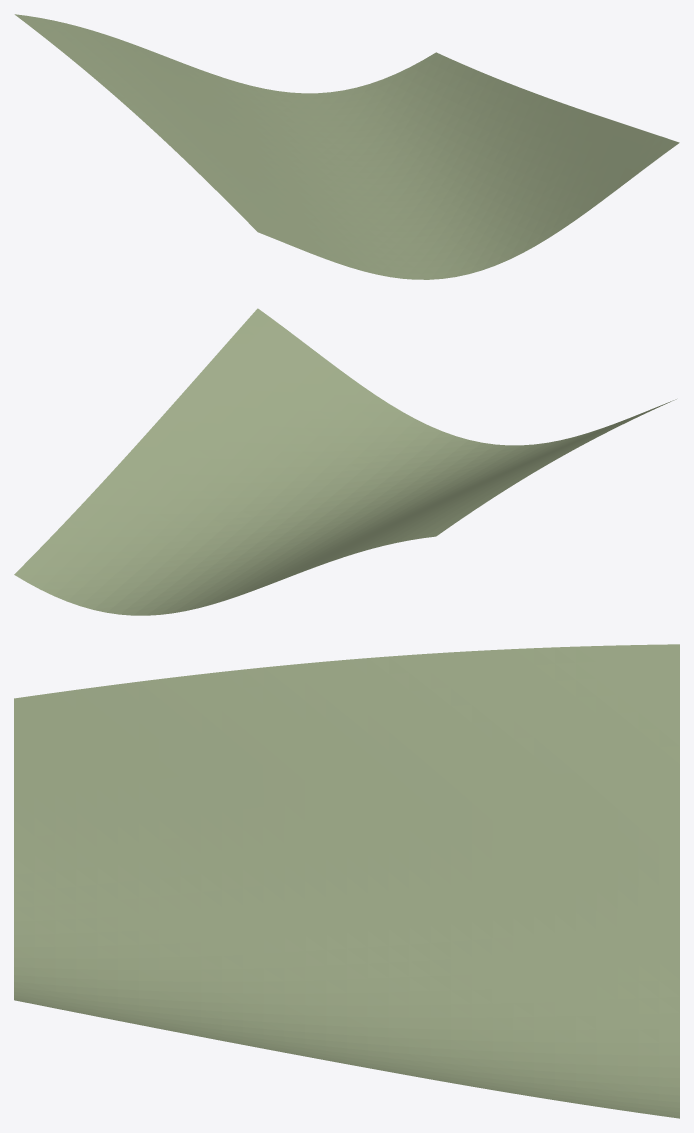
Rendered from expanse-15-5.glb.
3 views of the same model, one above another, from view 1: azimuth 30°, elevation 25°; view 2: azimuth 150°, elevation 25°; view 3: azimuth 270°, elevation 25° (orthographic). The views are drawn at different scales.
Visible parts, largest first — view 1: expanse-15-5; view 2: expanse-15-5; view 3: expanse-15-5.
Boxes of the visible parts, <box> form: expanse-15-5: <box>14,14,679,279</box>; expanse-15-5: <box>14,308,676,615</box>; expanse-15-5: <box>14,644,679,1118</box>.
Bounding box in the file's own units: 256 × 90.98 × 256.
